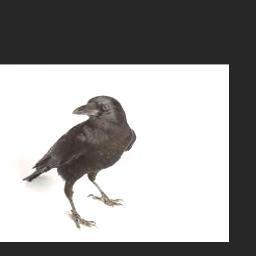Crow: (23, 94, 137, 231)
